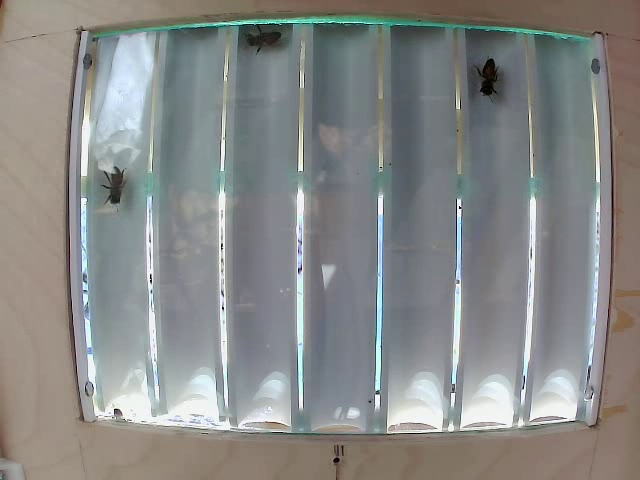bee: (252, 19, 300, 63), (97, 164, 139, 206), (478, 63, 507, 100)
